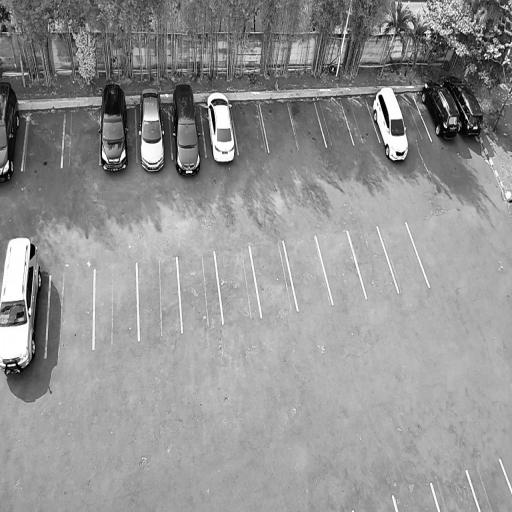Car: (0, 235, 44, 380), (366, 79, 413, 167), (171, 82, 204, 177), (416, 73, 460, 143), (202, 86, 239, 168), (441, 70, 484, 139), (137, 84, 168, 177), (99, 83, 129, 177), (0, 81, 22, 183)
Space Available: (45, 269, 94, 357), (316, 230, 366, 304), (250, 240, 297, 318), (137, 257, 181, 340), (95, 264, 138, 348), (178, 251, 222, 333), (215, 246, 261, 324), (378, 223, 429, 292), (348, 228, 398, 298), (284, 237, 332, 309), (23, 113, 64, 171), (468, 460, 512, 512), (62, 111, 100, 168), (230, 103, 269, 155), (260, 103, 298, 153), (432, 472, 479, 512), (289, 102, 326, 150), (341, 100, 380, 145), (315, 102, 353, 146), (397, 94, 431, 142), (393, 484, 438, 512)
